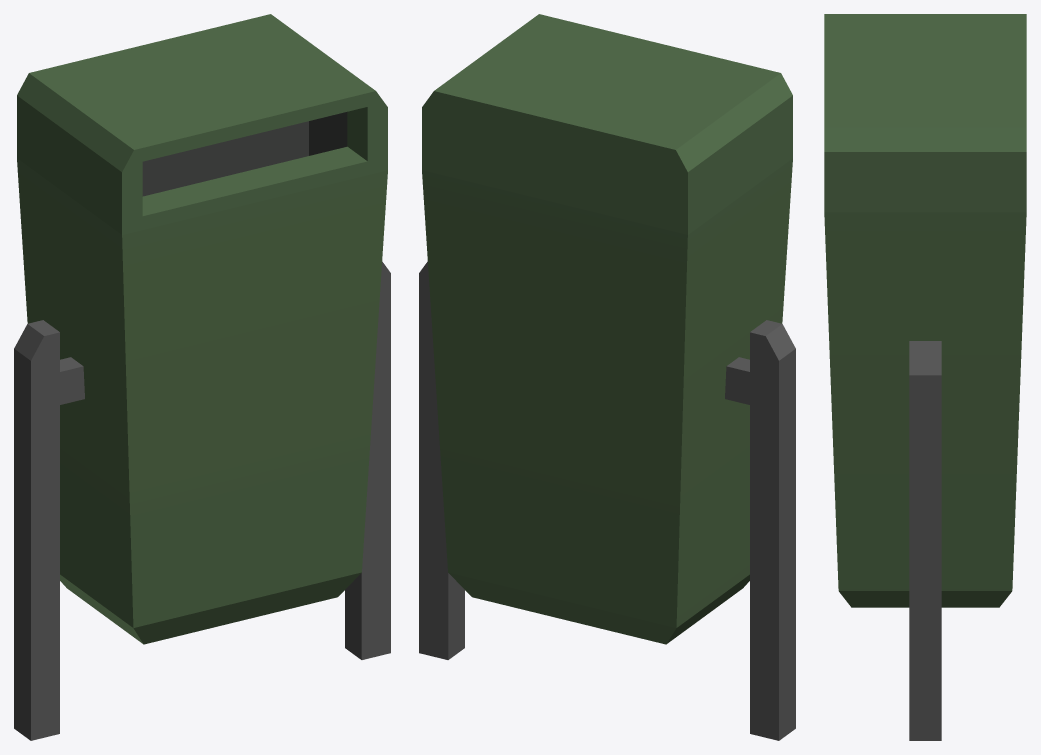
File: SM_Props_Trash_03.glb
The picture shows the model from 3 angles, left to right: view 1: azimuth 30°, elevation 25°; view 2: azimuth 150°, elevation 25°; view 3: azimuth 270°, elevation 25°; orthographic projection. The views are drawn at different scales.
Parts seen in each view (by area): view 1: SM_Props_Trash_03; view 2: SM_Props_Trash_03; view 3: SM_Props_Trash_03.
Boxes of the visible parts, box(x1,y1,x2,y2) form: SM_Props_Trash_03: box(14, 14, 390, 740); SM_Props_Trash_03: box(419, 14, 795, 740); SM_Props_Trash_03: box(824, 14, 1026, 740).
Bounding box in the file's own units: 0.4857 × 0.785 × 0.2458.
1 material, 1 textured.
